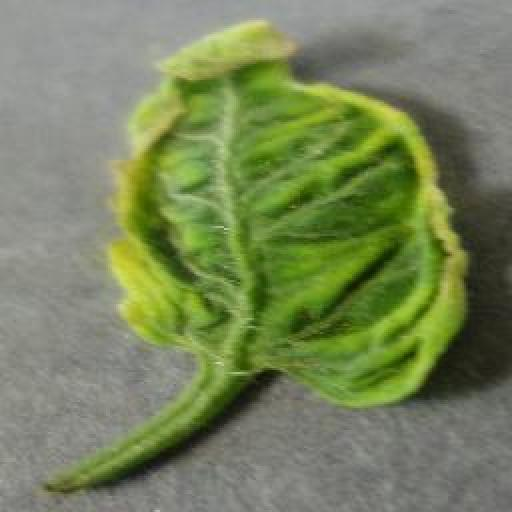Yellow Leaf Curl Virus: (101, 16, 468, 409)
